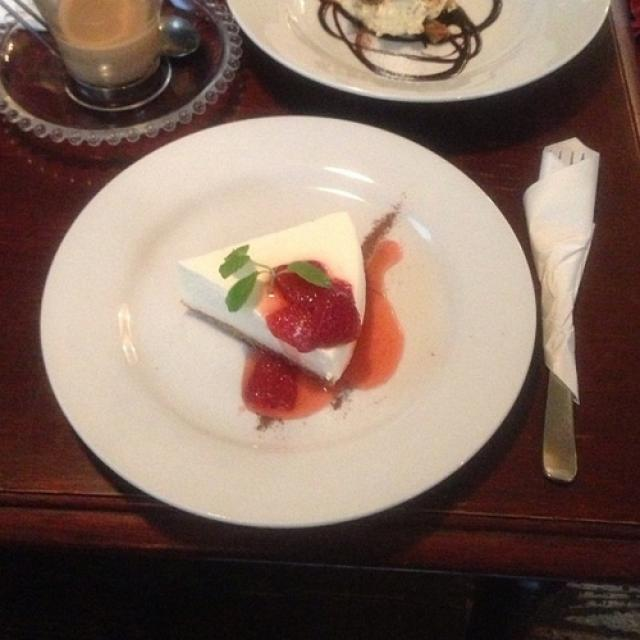Rare cheese cake: (136, 177, 475, 446)
